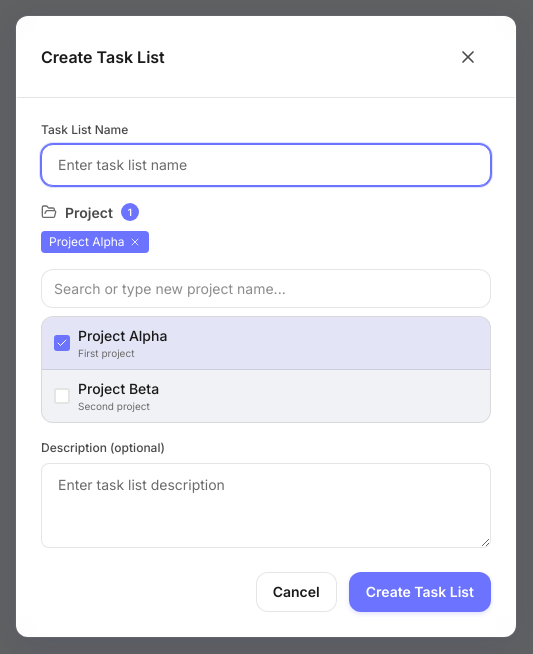
CreateTaskListModal › Form Validation › shows error when no project is selected
Expected: the radio button labelled "Project Alpha First project" is shown, [42,316,490,370]
Click the 2nd button: coordinates (135, 242) [129,236,141,248]
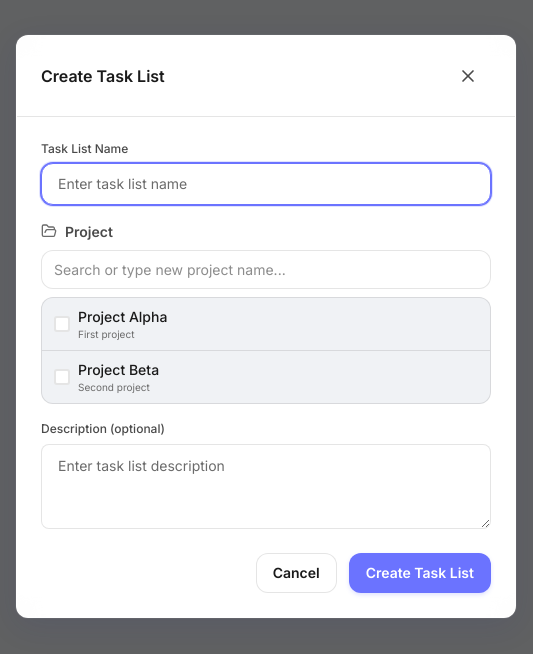
In the field with placeholder "Enter task list name": coordinates (266, 184) [41,162,491,204], type "My Task List"
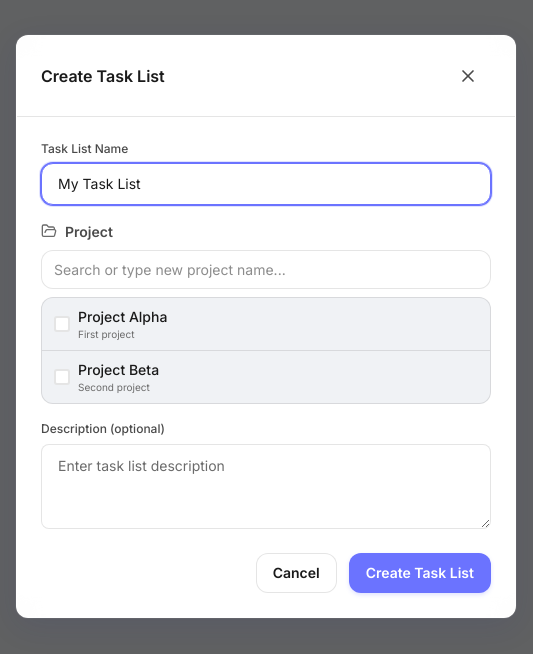
Click the button "Create Task List": coordinates (420, 572) [349,552,491,592]
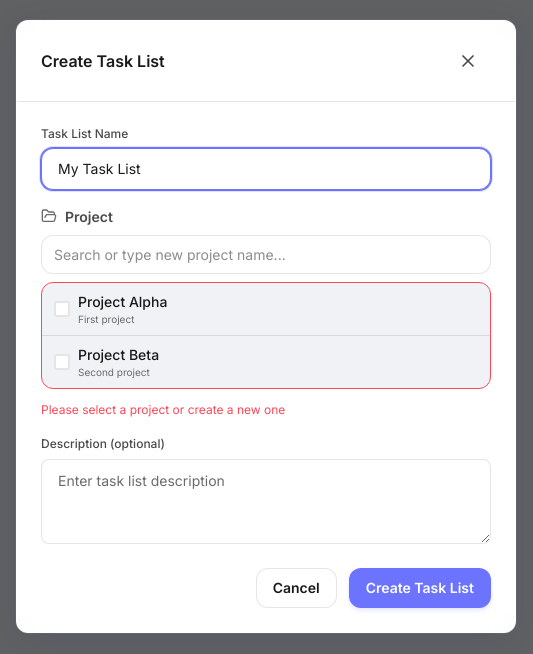
Expected: the text "Please select a project or create a new one" is shown, [41,402,285,416]
